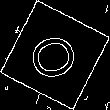O_E: (24, 26, 86, 84)
